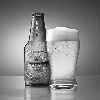beer: (47, 26, 82, 90)
